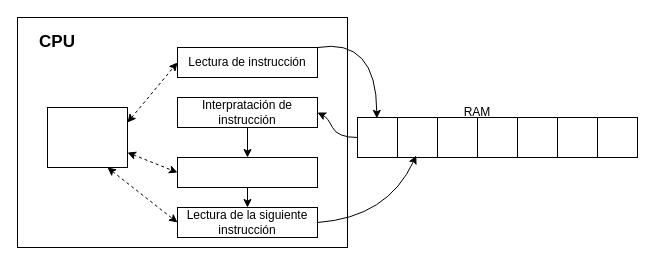
Image size: 655x265. Some labels were removed from this diagram. Each missing label, with the centre of its shape:
Ejecución de acción: (x=247, y=172)
Estado CPU: (x=87, y=137)
